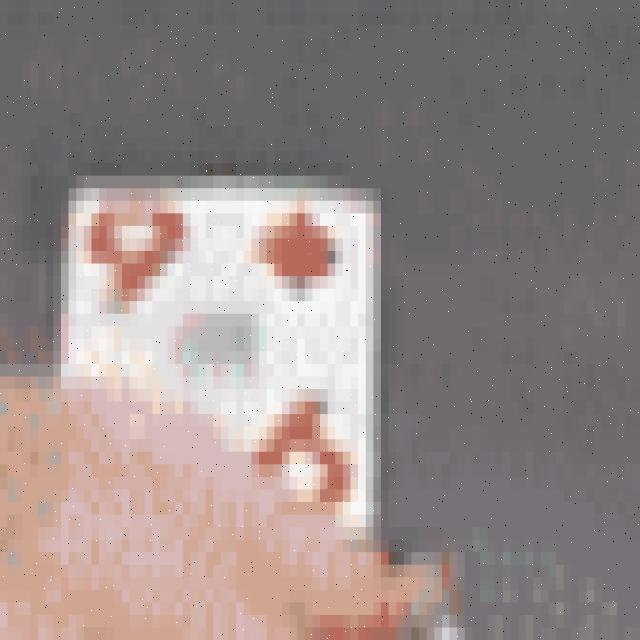Card-9: (64, 184, 382, 547)
